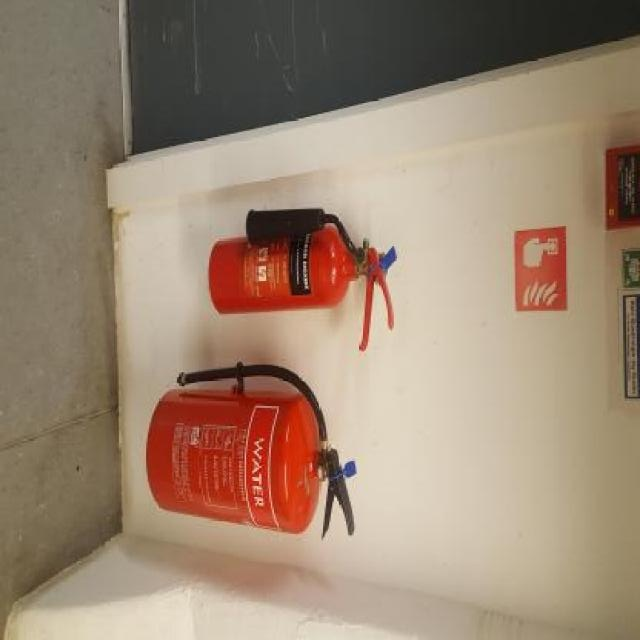fire extinguisher: (123, 361, 355, 564), (210, 206, 395, 352)
